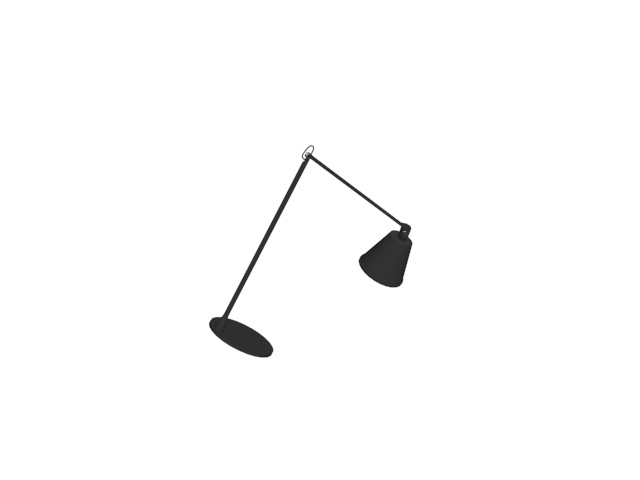desk_lamp: (209, 145, 416, 360)
